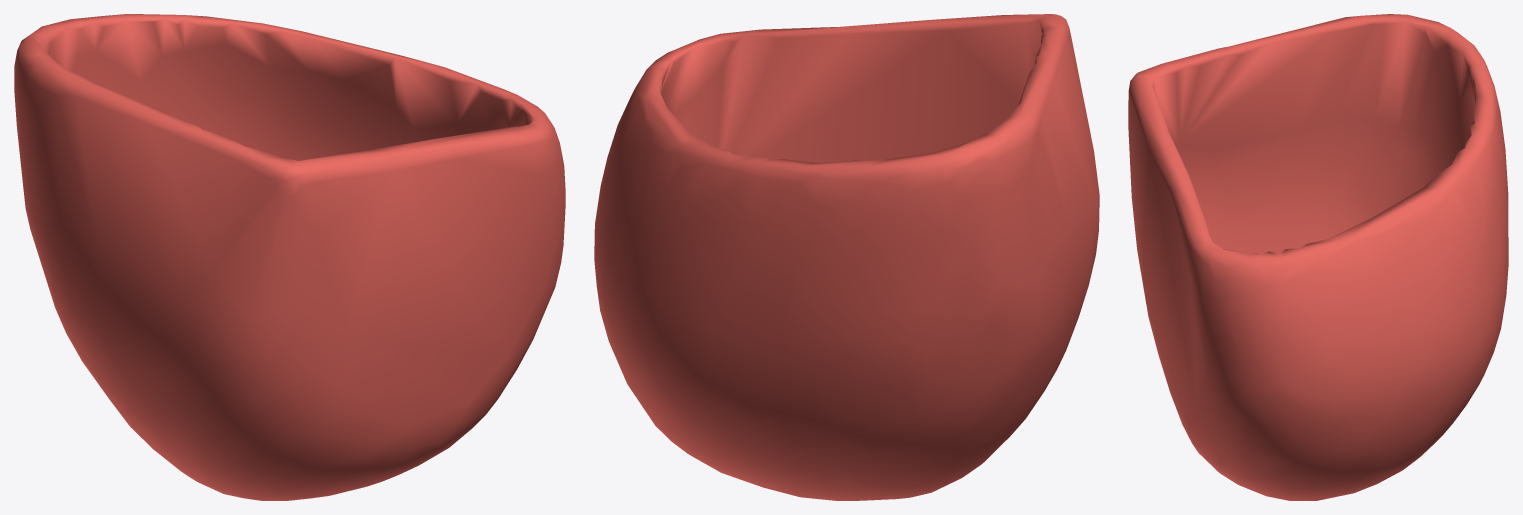
The picture shows the model from 3 angles, left to right: view 1: azimuth 30°, elevation 25°; view 2: azimuth 150°, elevation 25°; view 3: azimuth 270°, elevation 25°; orthographic projection. The views are drawn at different scales.
Visible parts, largest first — view 1: Left semilunar leaflet of pulmonary valve.008; view 2: Left semilunar leaflet of pulmonary valve.008; view 3: Left semilunar leaflet of pulmonary valve.008.
Boxes of the visible parts, bbox=[...] form: Left semilunar leaflet of pulmonary valve.008: bbox=[14, 14, 565, 500]; Left semilunar leaflet of pulmonary valve.008: bbox=[594, 14, 1099, 500]; Left semilunar leaflet of pulmonary valve.008: bbox=[1128, 14, 1508, 500].
Size of the model in its own units: 0.555 by 0.4999 by 0.4668.
